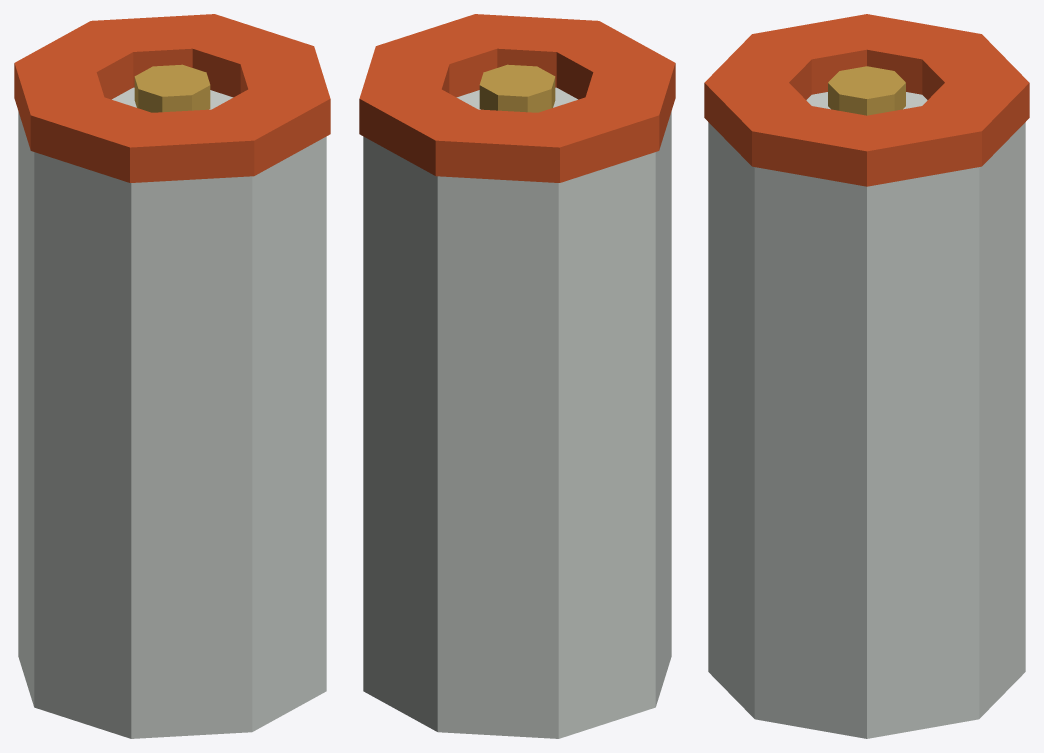
Rendered from ss_canister_fuel_1m.glb.
3 views of the same model, side by side, from view 1: azimuth 30°, elevation 25°; view 2: azimuth 150°, elevation 25°; view 3: azimuth 270°, elevation 25° (orthographic).
Parts seen in each view (by area): view 1: canister_body, canister_collar, canister_valve; view 2: canister_body, canister_collar, canister_valve; view 3: canister_body, canister_collar, canister_valve.
Boxes of the visible parts, x1=… form: canister_body: x1=18, y1=87, x2=326, y2=738; canister_collar: x1=14, y1=14, x2=330, y2=182; canister_valve: x1=134, y1=64, x2=210, y2=112; canister_body: x1=363, y1=87, x2=671, y2=738; canister_collar: x1=359, y1=14, x2=675, y2=182; canister_valve: x1=479, y1=64, x2=555, y2=112; canister_body: x1=708, y1=92, x2=1025, y2=738; canister_collar: x1=704, y1=14, x2=1029, y2=186; canister_valve: x1=828, y1=66, x2=905, y2=115.
Bounding box in the file's own units: 0.5 × 1 × 0.5.
